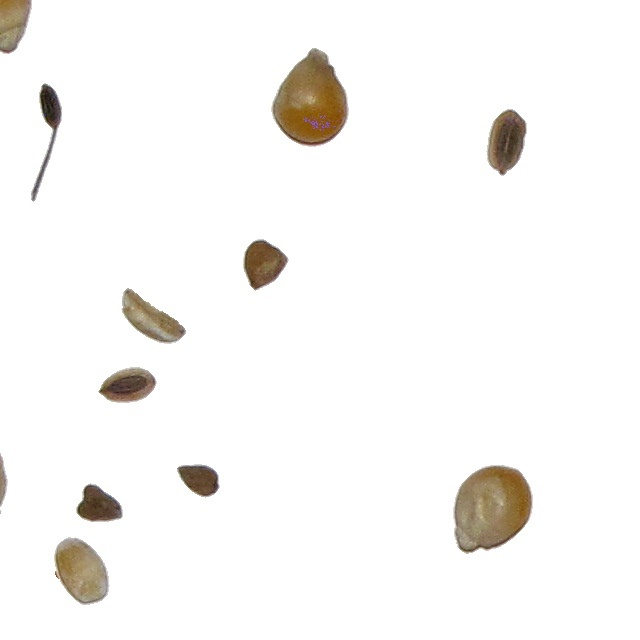buckwheat: (485, 108, 528, 177), (242, 238, 290, 292), (97, 366, 158, 404), (75, 482, 124, 523), (176, 463, 221, 499)
dill: (30, 116, 59, 203)
mais: (270, 47, 350, 148), (452, 464, 534, 555), (53, 536, 111, 606)
other: (120, 287, 187, 345)
